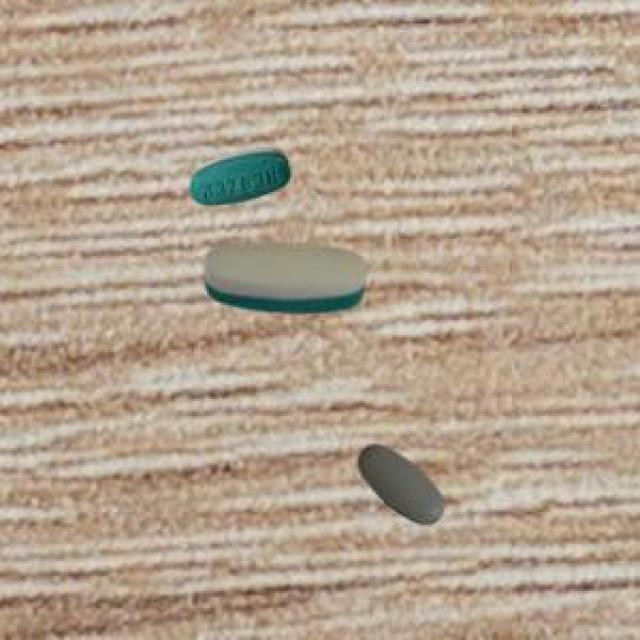Neozep: (190, 232, 376, 325), (346, 433, 454, 530), (179, 141, 297, 217)
